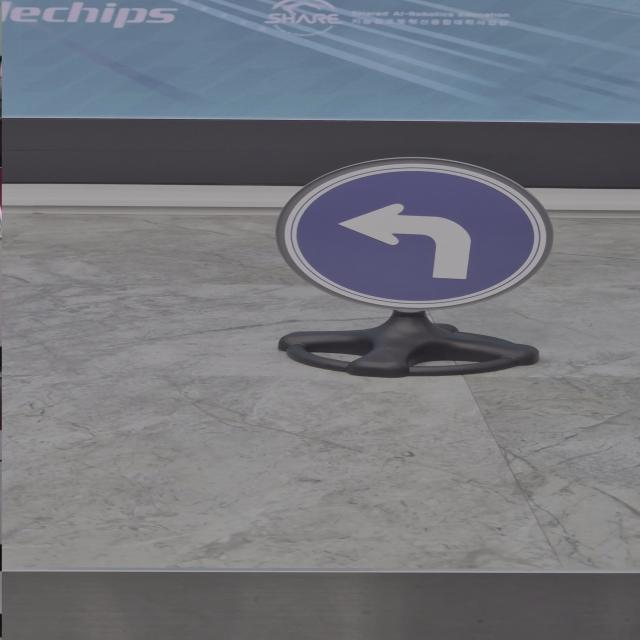left_direction: (264, 141, 564, 327)
